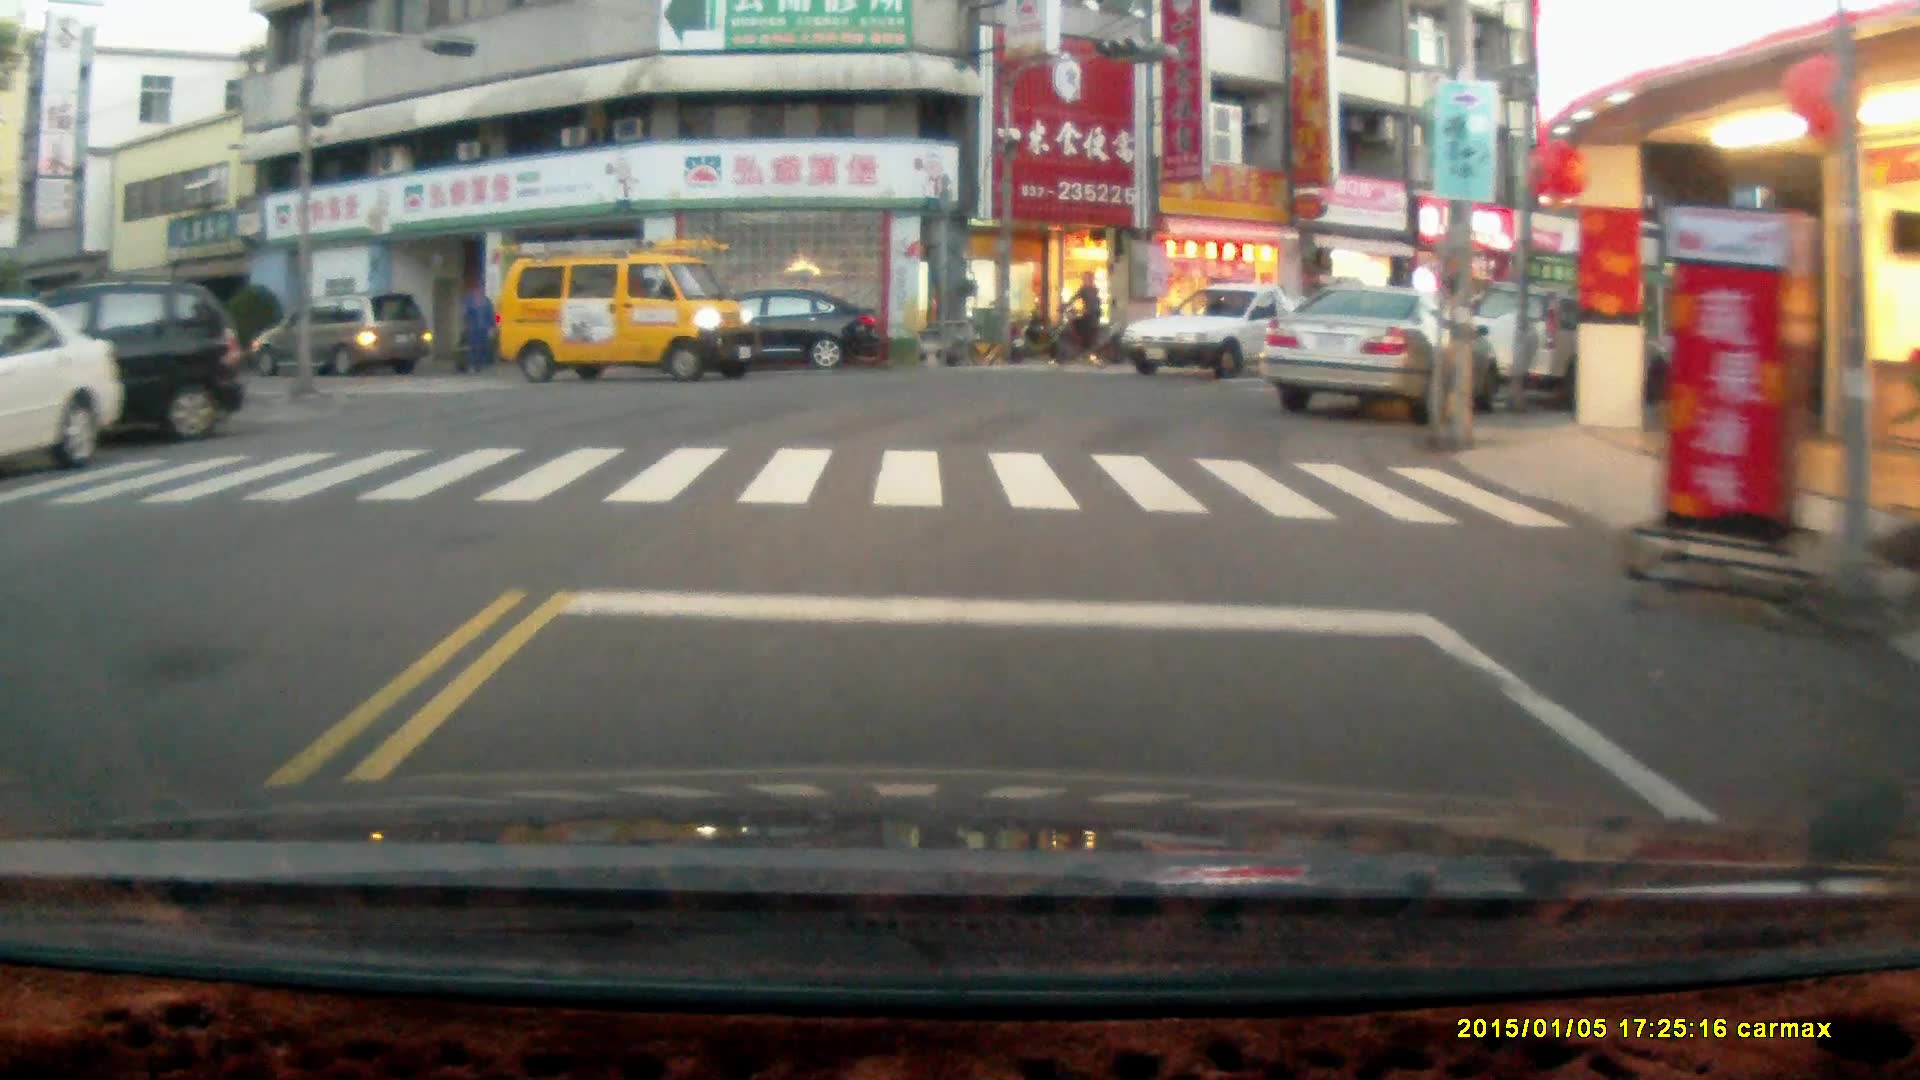pedestrian: (458, 283, 493, 372)
rider: (1040, 267, 1118, 371)
vehicle: (3, 276, 255, 455), (497, 238, 753, 386), (1258, 281, 1510, 424), (1457, 283, 1693, 412), (1119, 278, 1349, 382), (1, 299, 126, 475), (682, 287, 886, 373), (248, 295, 440, 381)
